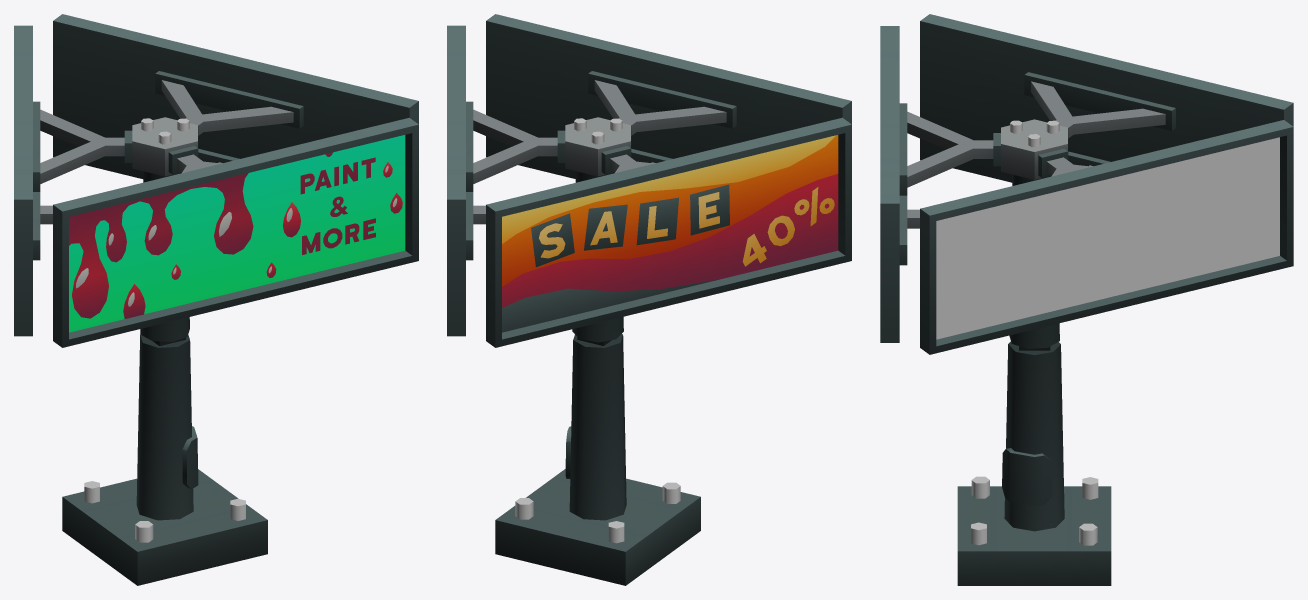
Rendered from Billboard_2B.fbx.
The picture shows the model from 3 angles, left to right: view 1: azimuth 30°, elevation 25°; view 2: azimuth 150°, elevation 25°; view 3: azimuth 270°, elevation 25°; orthographic projection. The views are drawn at different scales.
Parts seen in each view (by area): view 1: Rotating_Billboard_2B, Billboard_2B_Image.M, Billboard_Base_2B; view 2: Rotating_Billboard_2B, Billboard_2B_Image.R, Billboard_Base_2B; view 3: Rotating_Billboard_2B, Billboard_2B_Image.L, Billboard_Base_2B.
Boxes of the visible parts, x1,y1,x2,y2 form: Rotating_Billboard_2B: (14,14,418,347); Billboard_2B_Image.M: (69,135,405,332); Billboard_Base_2B: (62,334,267,585); Rotating_Billboard_2B: (447,14,851,347); Billboard_2B_Image.R: (502,135,838,332); Billboard_Base_2B: (495,334,700,585); Rotating_Billboard_2B: (880,14,1293,354); Billboard_2B_Image.L: (936,137,1279,339); Billboard_Base_2B: (957,341,1111,585).
Size of the model in its own units: 6.21 by 6.3 by 5.38.
